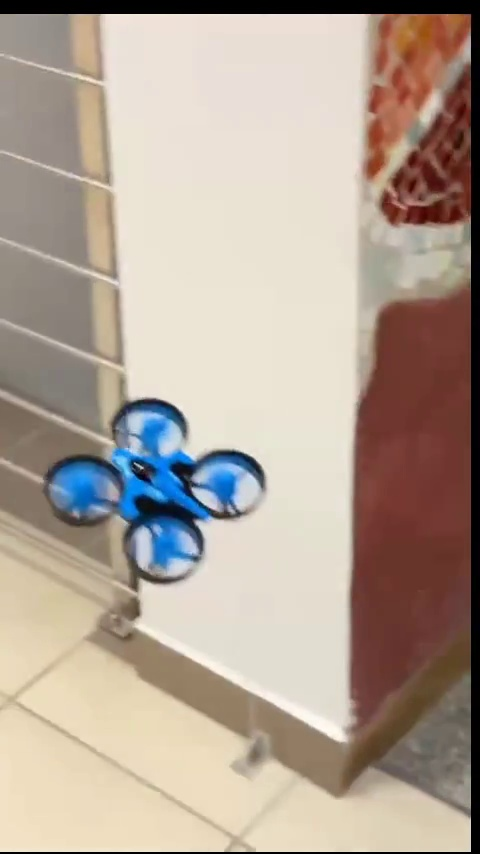drone: (50, 396, 270, 598)
